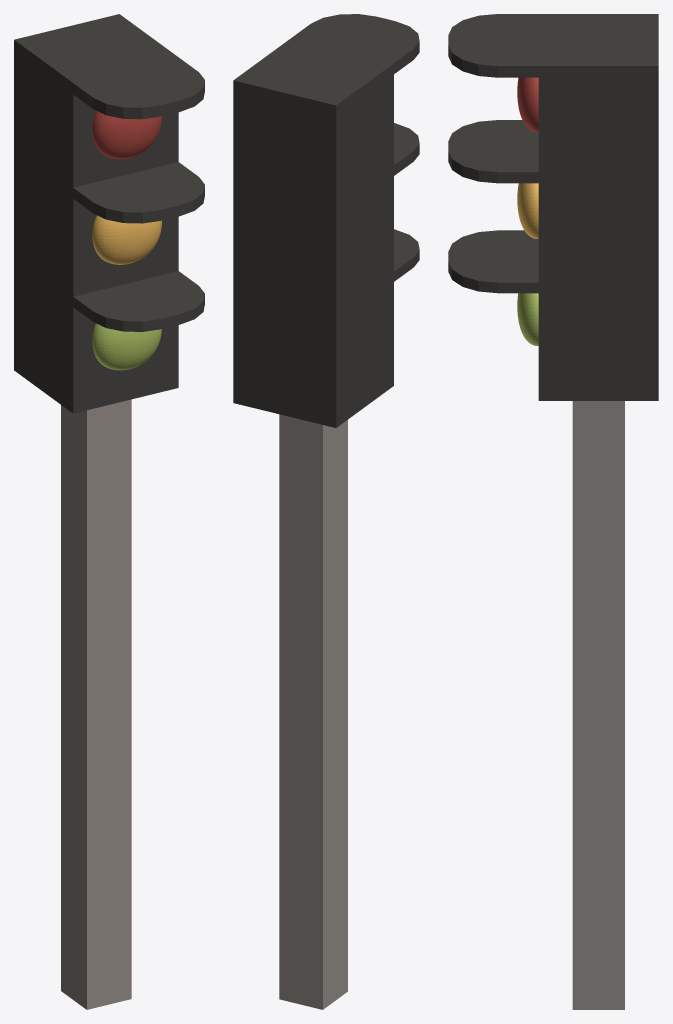
The model's file is Ampel_1.fbx.
The picture shows the model from 3 angles, left to right: view 1: azimuth 30°, elevation 25°; view 2: azimuth 150°, elevation 25°; view 3: azimuth 270°, elevation 25°; orthographic projection. The views are drawn at different scales.
Visible parts, largest first — view 1: Cube.003, Cube.002; view 2: Cube.003, Cube.002; view 3: Cube.003, Cube.002.
Boxes of the visible parts, <box> form: Cube.003: <box>14,14,204,413</box>; Cube.002: <box>61,399,131,1009</box>; Cube.003: <box>233,14,419,427</box>; Cube.002: <box>279,414,347,1009</box>; Cube.003: <box>448,14,658,400</box>; Cube.002: <box>572,401,624,1009</box>.
Bounding box in the file's own units: 472 × 4046 × 804.
